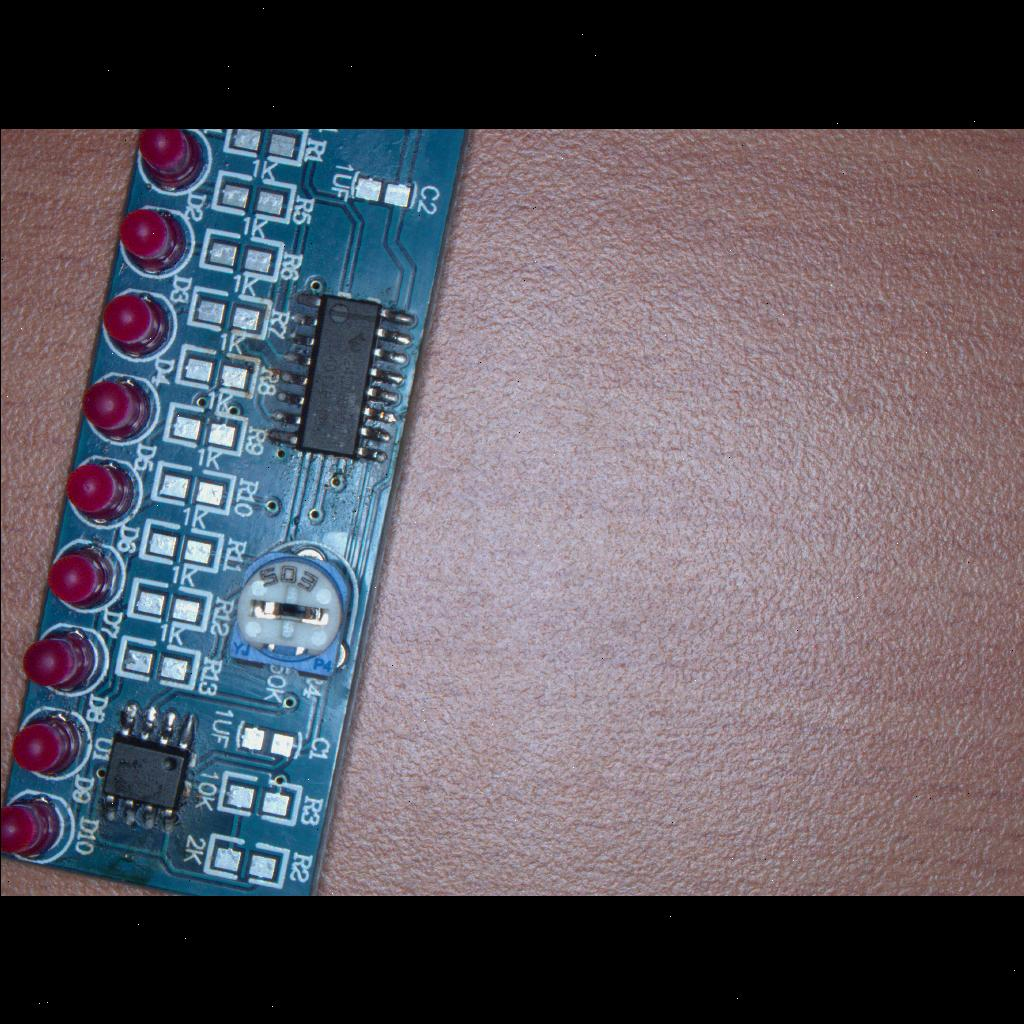NG: (120, 570, 220, 644), (212, 764, 310, 836), (199, 828, 293, 896), (146, 458, 240, 520), (134, 515, 226, 577), (170, 340, 262, 402), (196, 222, 288, 284), (206, 168, 300, 228), (112, 631, 202, 693), (184, 284, 276, 342), (162, 398, 248, 460), (230, 719, 310, 765), (341, 168, 423, 210)
OK: (262, 280, 424, 472), (93, 698, 207, 848)
